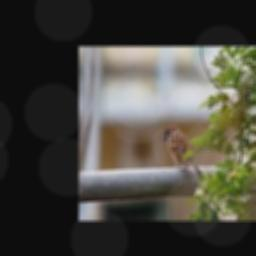Sparrow: (163, 125, 203, 175)
